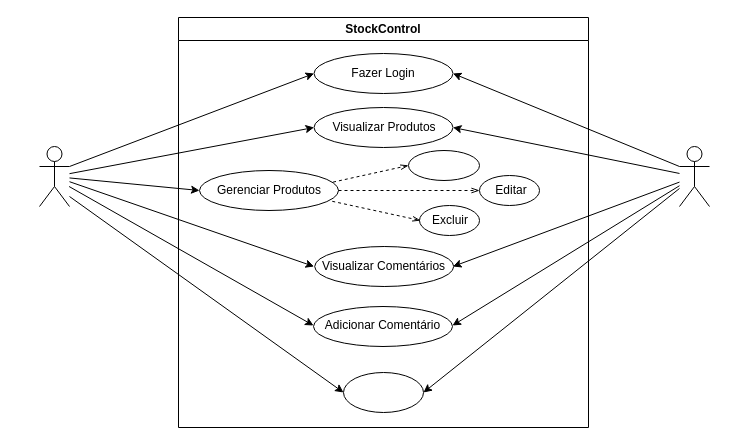
Some shapes in this 732 by 445 pixel diagram are drawn without their labels. The shapes that lost their labels are listed below. From the top down, each one's centre as x and y in pixels, then its label:
the point at 54,176: Administrador
the point at 444,165: Cadastrar
the point at 694,176: Usuário
the point at 383,392: Sair
